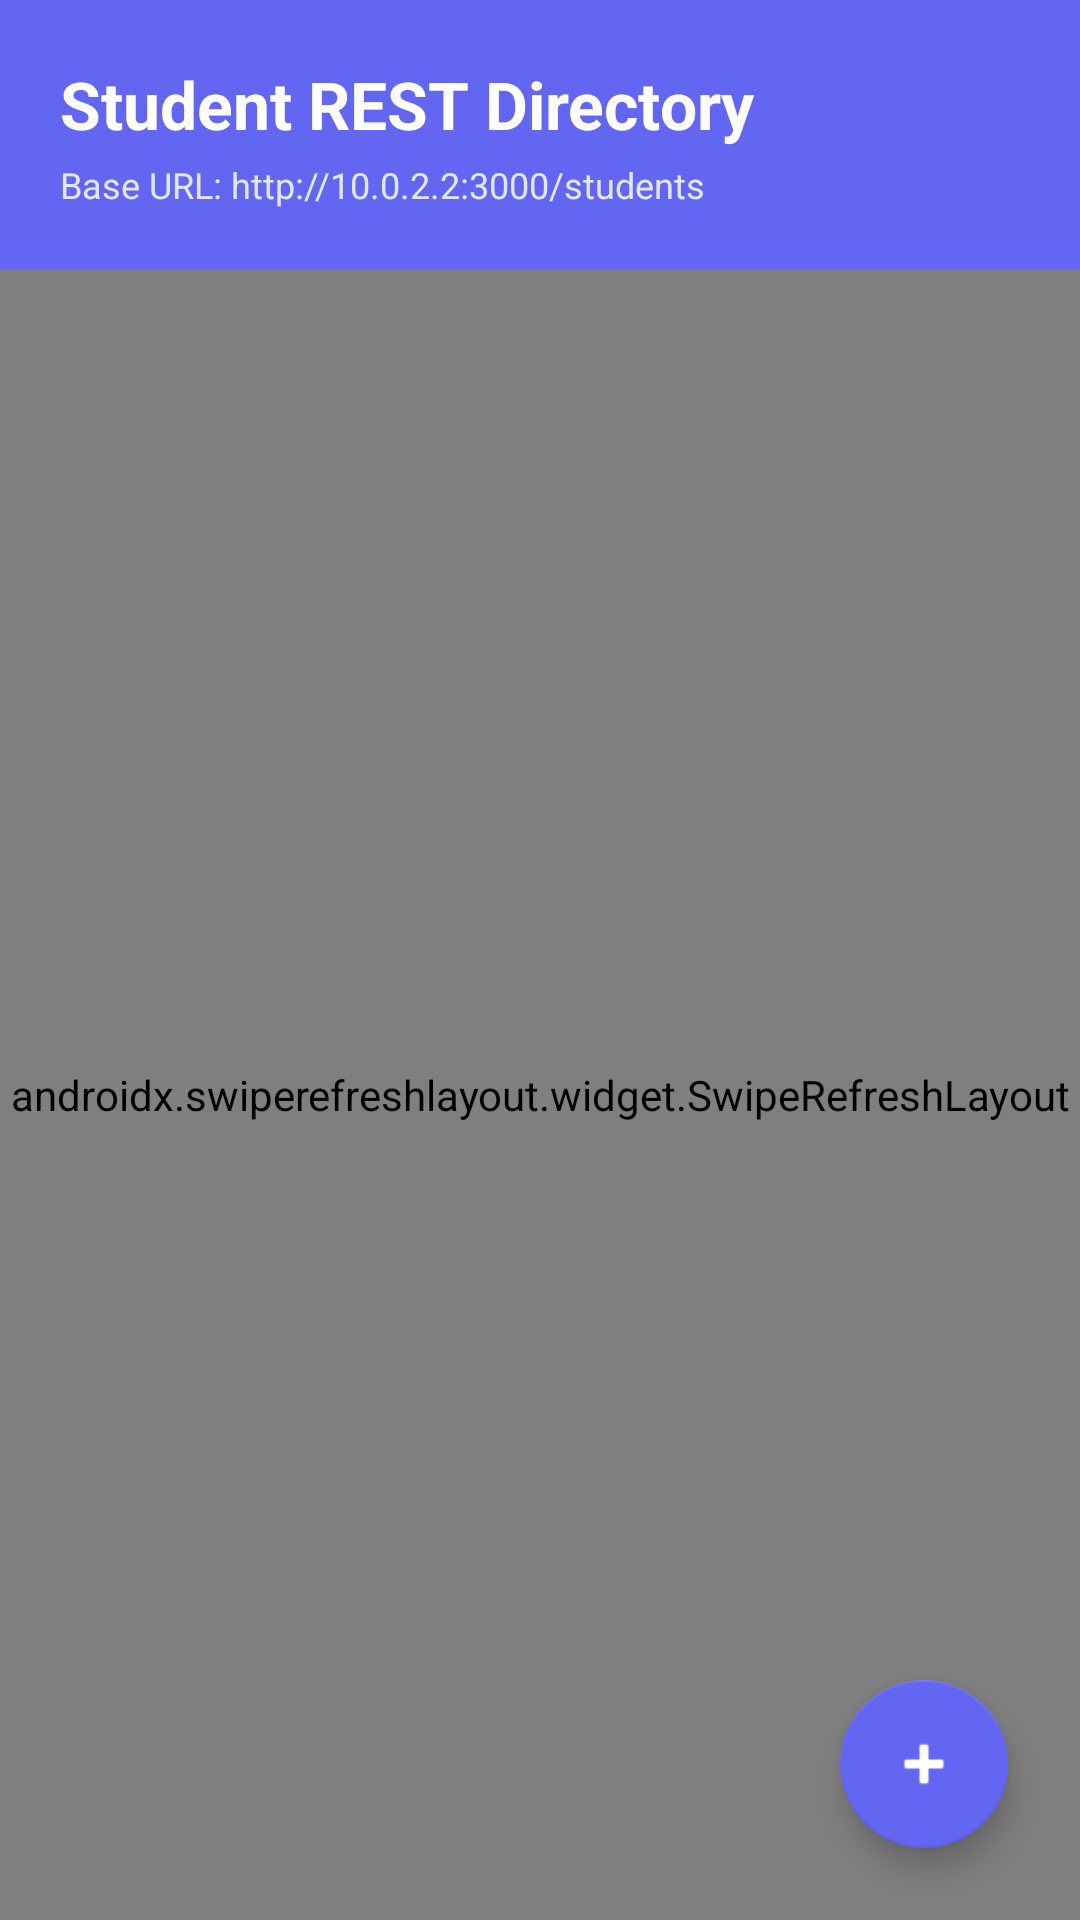

Icon click points for this 1080px×1920px phone screenshot, format (x=x, y=y):
Add Student: (x=924, y=1764)
